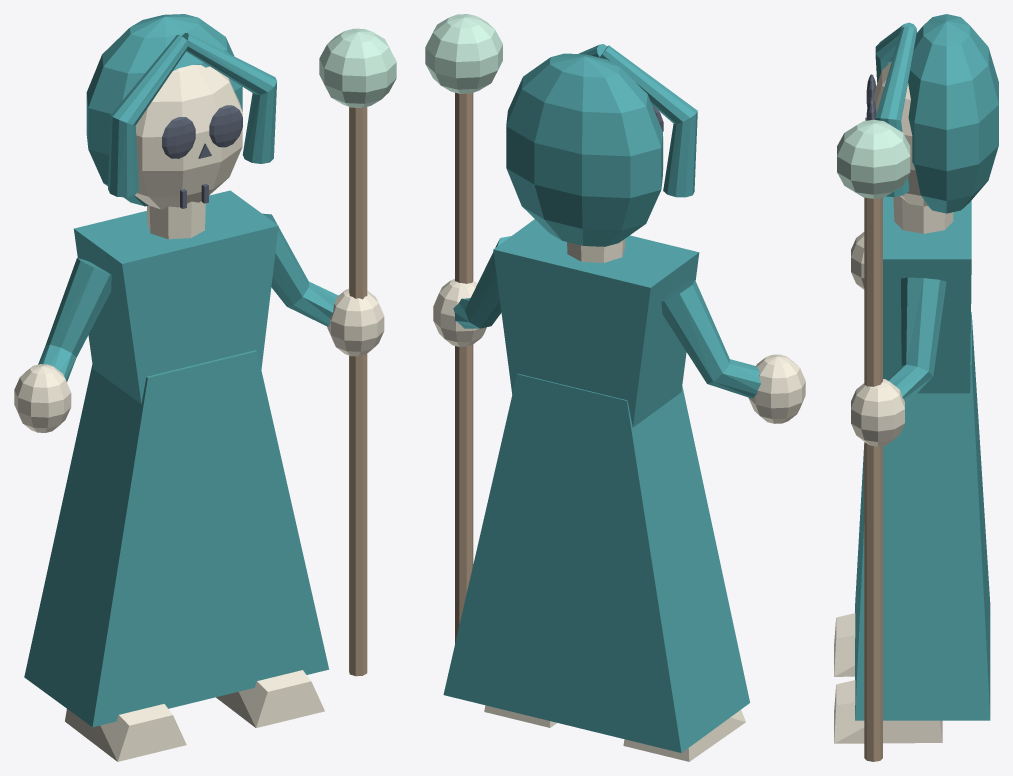
File: necromancer.glb
3 renders of one model, left to right at view 1: azimuth 30°, elevation 25°; view 2: azimuth 150°, elevation 25°; view 3: azimuth 270°, elevation 25°, orthographic.
Visible parts, largest first — view 1: robe, torso, staff, head, hood, staff_orb, hood_edge_-1, arm_-1, hood_edge_1, foot_-1, foot_1, hand_-1 (+5 smaller); view 2: robe, torso, hood, staff, arm_-1, staff_orb, hood_edge_-1, hand_-1, arm_1, hand_1, foot_-1, neck; view 3: robe, hood, torso, staff, staff_orb, arm_1, foot_1, hand_1, hood_edge_1, neck, head, foot_-1 (+2 smaller).
Part boxes in pixels (bbox=[...]): robe: bbox=[24, 350, 329, 727]; torso: bbox=[74, 190, 278, 403]; staff: bbox=[349, 107, 367, 676]; head: bbox=[134, 65, 242, 209]; hood: bbox=[86, 14, 242, 206]; staff_orb: bbox=[319, 28, 396, 107]; hood_edge_-1: bbox=[108, 35, 187, 197]; arm_-1: bbox=[38, 258, 111, 381]; hood_edge_1: bbox=[182, 33, 276, 163]; foot_-1: bbox=[65, 704, 186, 761]; foot_1: bbox=[216, 670, 324, 727]; hand_-1: bbox=[14, 364, 71, 432]; robe: bbox=[443, 373, 749, 752]; torso: bbox=[493, 219, 699, 427]; hood: bbox=[506, 53, 662, 246]; staff: bbox=[455, 92, 473, 643]; arm_-1: bbox=[661, 280, 760, 398]; staff_orb: bbox=[425, 14, 502, 93]; hood_edge_-1: bbox=[600, 45, 697, 197]; hand_-1: bbox=[748, 354, 805, 423]; arm_1: bbox=[453, 236, 510, 328]; hand_1: bbox=[433, 279, 486, 346]; foot_-1: bbox=[623, 710, 745, 761]; neck: bbox=[567, 238, 625, 262]; robe: bbox=[855, 312, 990, 720]; hood: bbox=[908, 14, 998, 213]; torso: bbox=[883, 196, 971, 393]; staff: bbox=[864, 197, 882, 761]; staff_orb: bbox=[837, 119, 910, 198]; arm_1: bbox=[888, 277, 946, 405]; foot_1: bbox=[834, 680, 942, 743]; hand_1: bbox=[851, 379, 904, 446]; hood_edge_1: bbox=[875, 26, 916, 196]; neck: bbox=[893, 196, 953, 233]; head: bbox=[873, 61, 927, 206]; foot_-1: bbox=[834, 613, 855, 676].
Size of the model in its own units: 1.03 by 1.8 by 0.3996.
